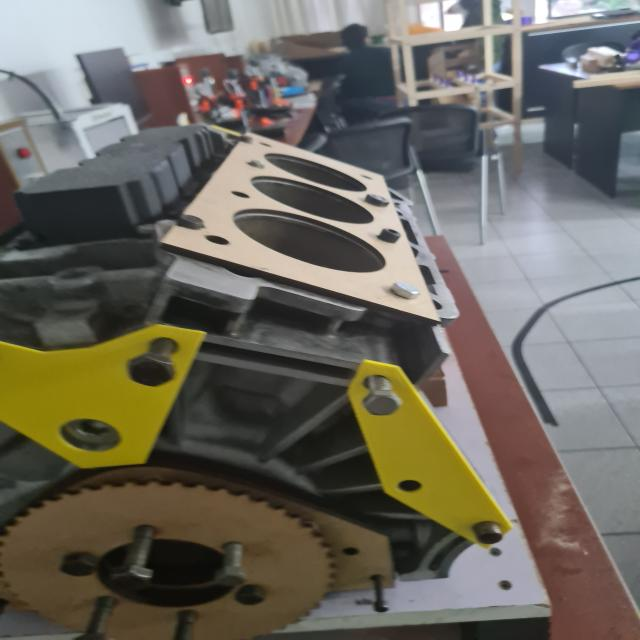vista1: (160, 131, 439, 323)
